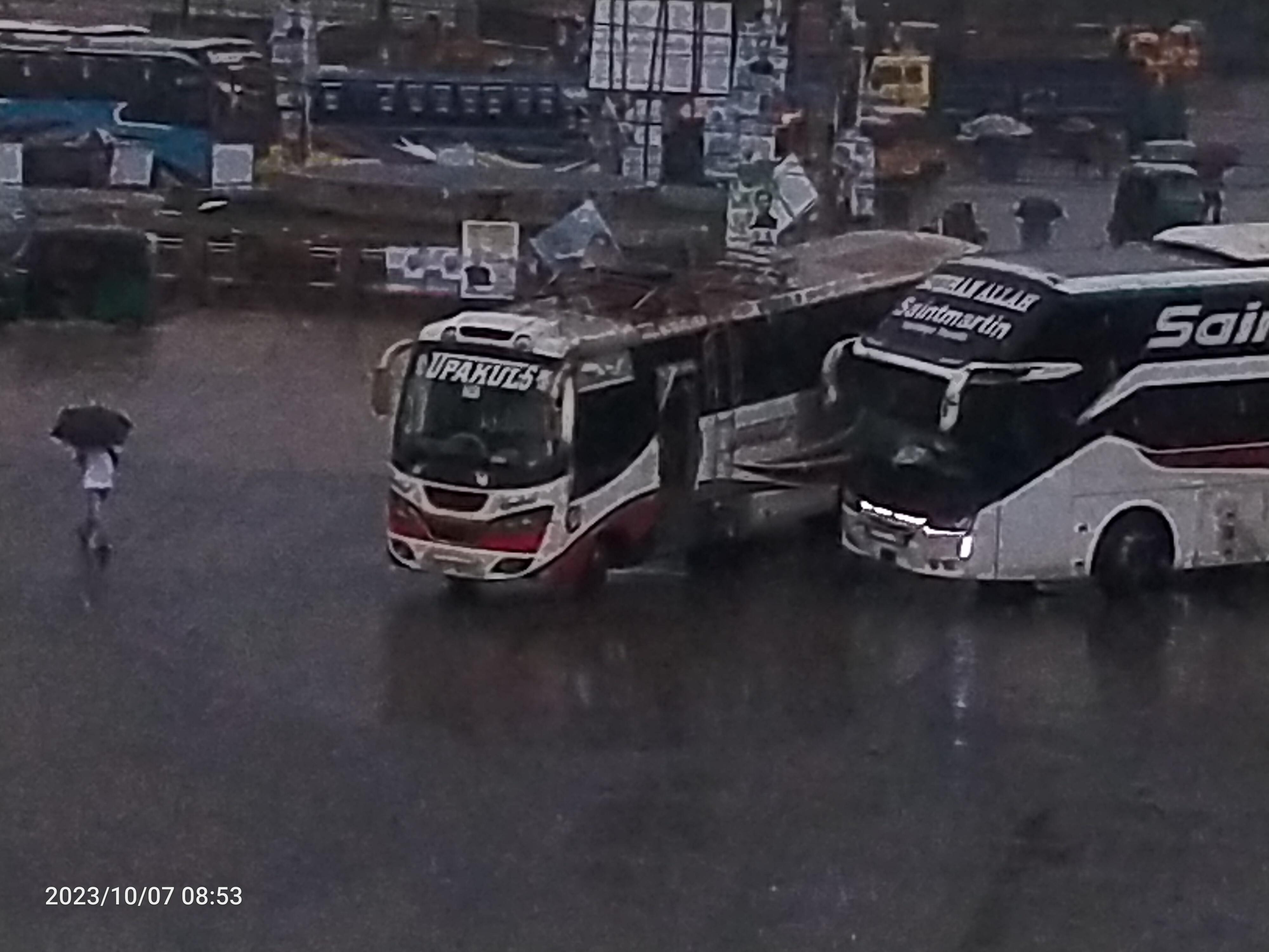Bus: (795, 176, 1269, 636), (310, 213, 841, 619), (0, 10, 293, 229), (276, 53, 651, 219)
Truck: (841, 36, 1193, 143)
